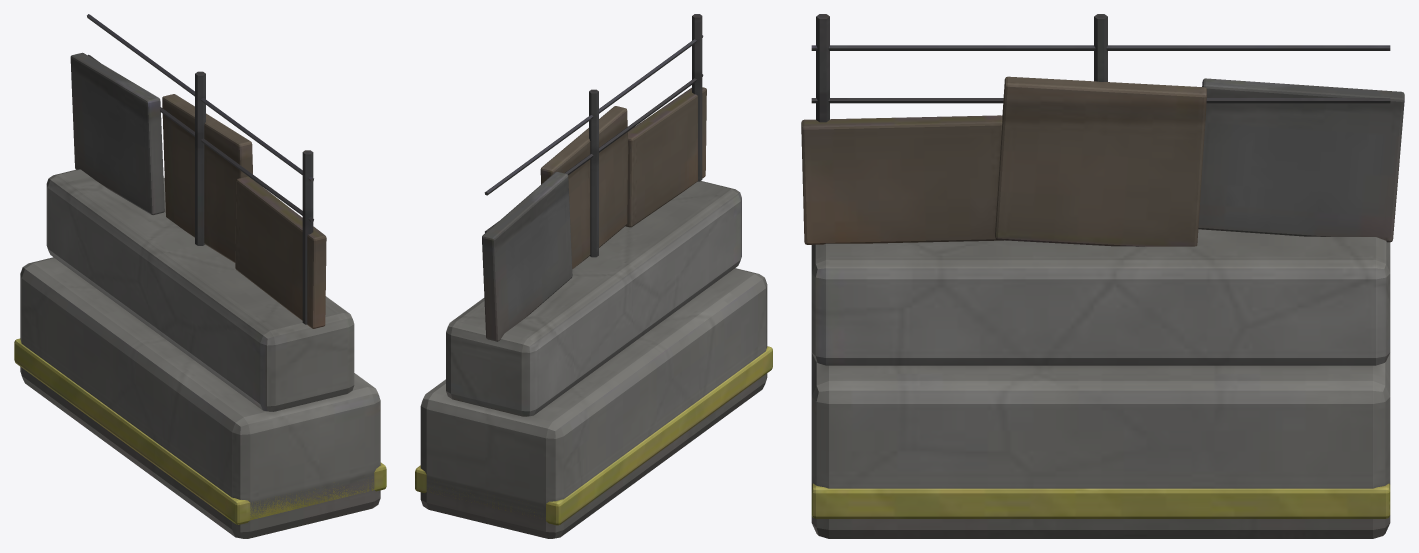
File: base-wall.glb
The picture shows the model from 3 angles, left to right: view 1: azimuth 30°, elevation 25°; view 2: azimuth 150°, elevation 25°; view 3: azimuth 270°, elevation 25°; orthographic projection. The views are drawn at different scales.
Parts seen in each view (by area): view 1: base_wall; view 2: base_wall; view 3: base_wall.
Part boxes in pixels (<box>): base_wall: <box>14,14,386,538</box>; base_wall: <box>415,14,772,538</box>; base_wall: <box>801,14,1404,538</box>.
Bounding box in the file's own units: 0.39 × 0.92 × 1.04.
1 material, 1 textured.
